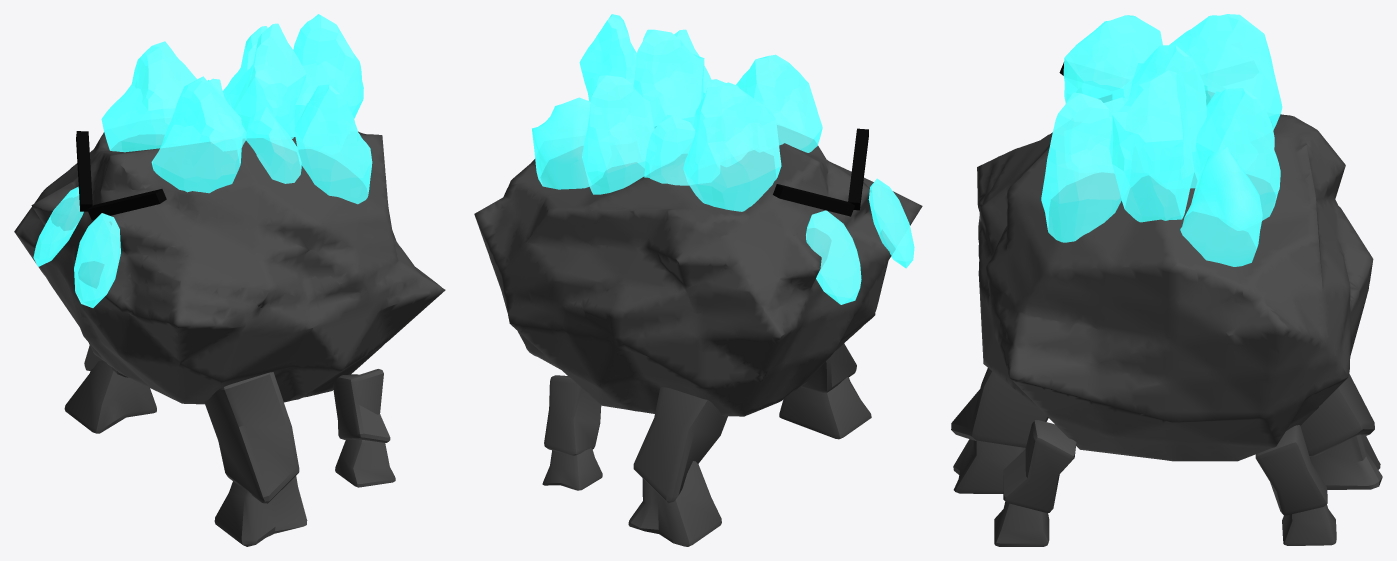
Rendered from MeleeRock.fbx.
3 views of the same model, side by side, from view 1: azimuth 30°, elevation 25°; view 2: azimuth 150°, elevation 25°; view 3: azimuth 270°, elevation 25° (orthographic). The views are drawn at different scales.
Visible parts, largest first — view 1: Body, Leg1, Crystal.006, Crystal.009, Crystal.001, Crystal.004, Crystal, Leg2.001, Leg1.001, Eye1, Leg3, Crystal.007 (+5 smaller); view 2: Body, Crystal.001, Crystal.005, Leg2, Crystal.004, Crystal.006, Leg2.001, Crystal.008, Leg4, Eye2, Leg1.001, Crystal (+6 smaller); view 3: Body, Crystal, Crystal.009, Crystal.008, Crystal.001, Crystal.005, Crystal.006, Leg3, Leg1, Leg4, Leg2, Crystal.004 (+4 smaller).
Part boxes in pixels (bbox=[...]): Body: bbox=[14, 131, 445, 404]; Leg1: bbox=[204, 372, 299, 503]; Crystal.006: bbox=[151, 76, 242, 193]; Crystal.009: bbox=[294, 84, 372, 204]; Crystal.001: bbox=[101, 41, 197, 152]; Crystal.004: bbox=[228, 23, 306, 138]; Crystal: bbox=[287, 14, 363, 136]; Leg2.001: bbox=[64, 360, 156, 433]; Leg1.001: bbox=[214, 476, 307, 546]; Eye1: bbox=[74, 213, 120, 307]; Leg3: bbox=[333, 369, 390, 442]; Crystal.007: bbox=[245, 106, 301, 183]; Body: bbox=[474, 125, 922, 416]; Crystal.001: bbox=[683, 86, 781, 211]; Crystal.005: bbox=[582, 75, 654, 194]; Leg2: bbox=[633, 387, 727, 503]; Crystal.004: bbox=[632, 29, 704, 128]; Crystal.006: bbox=[736, 54, 822, 152]; Leg2.001: bbox=[628, 461, 721, 546]; Crystal.008: bbox=[532, 97, 590, 189]; Leg4: bbox=[544, 375, 601, 455]; Eye2: bbox=[806, 210, 861, 304]; Leg1.001: bbox=[779, 377, 871, 439]; Crystal: bbox=[579, 14, 636, 101]; Body: bbox=[977, 91, 1373, 461]; Crystal: bbox=[1109, 70, 1194, 222]; Crystal.009: bbox=[1041, 92, 1134, 242]; Crystal.008: bbox=[1180, 147, 1262, 266]; Crystal.001: bbox=[1169, 14, 1282, 130]; Crystal.005: bbox=[1193, 88, 1280, 220]; Crystal.006: bbox=[1063, 15, 1162, 103]; Leg3: bbox=[1003, 420, 1076, 512]; Leg1: bbox=[951, 368, 1048, 448]; Leg4: bbox=[1255, 425, 1327, 515]; Leg2: bbox=[1300, 374, 1374, 456]; Crystal.004: bbox=[1129, 45, 1214, 188].
Size of the model in its own units: 754 by 865 by 688.
